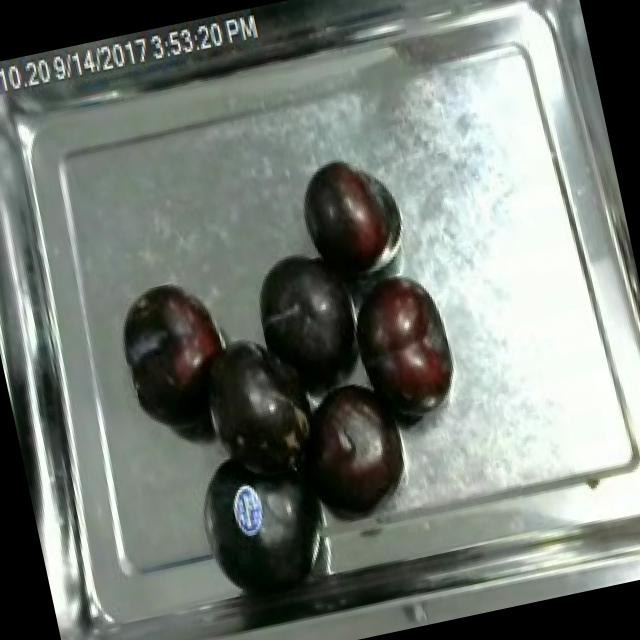Fruit: (242, 240, 369, 400), (350, 260, 468, 428), (292, 369, 416, 525), (104, 270, 234, 409), (290, 146, 410, 288)
